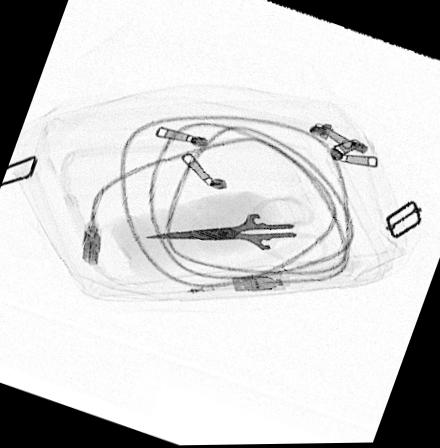Scissors: (143, 194, 332, 268)
